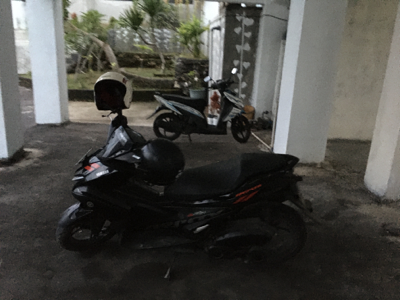moto: (59, 113, 326, 278), (148, 76, 262, 145)
